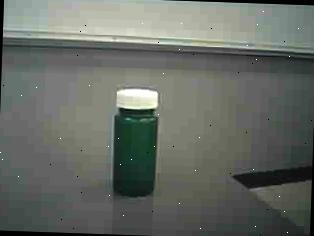Bottle C: (100, 81, 175, 206)
